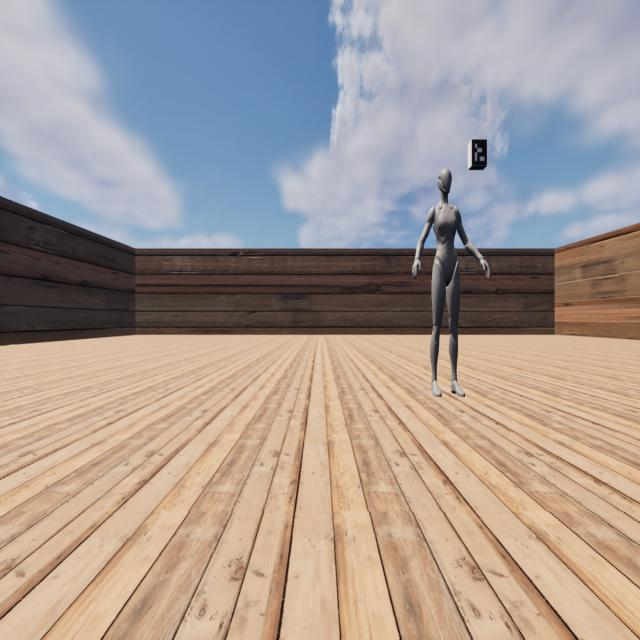aruco: (472, 140, 487, 165)
hip: (432, 260, 459, 271)
